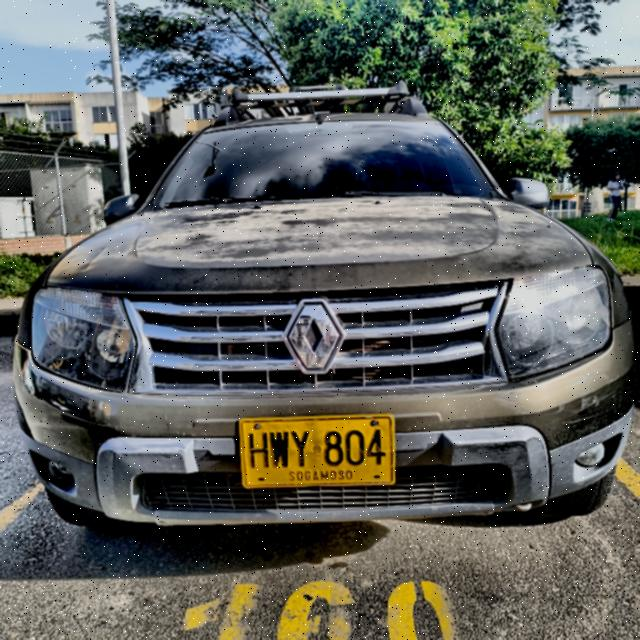0: (344, 428, 366, 467)
4: (365, 428, 389, 466)
8: (323, 429, 345, 468)
H: (247, 431, 271, 470)
W: (269, 430, 290, 469)
Y: (290, 429, 311, 469)
